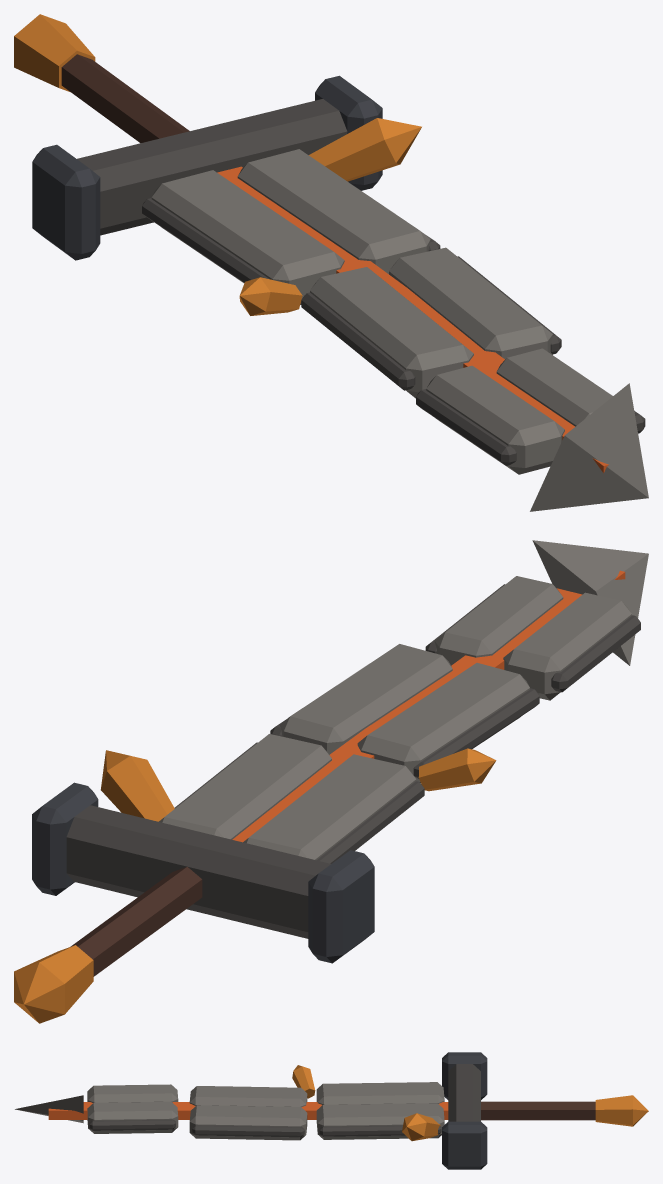
Rendered from boss_weapon.fbx.
3 renders of one model, top to bottom at view 1: azimuth 30°, elevation 25°; view 2: azimuth 150°, elevation 25°; view 3: azimuth 270°, elevation 25°, orthographic. The views are drawn at different scales.
Visible parts, largest first — view 1: boss_weapon; view 2: boss_weapon; view 3: boss_weapon.
Boxes of the visible parts, x1=… form: boss_weapon: x1=14, y1=14, x2=648, y2=511; boss_weapon: x1=14, y1=540, x2=648, y2=1023; boss_weapon: x1=15, y1=1052, x2=648, y2=1169.
Size of the model in its own units: 0.9 by 0.2911 by 3.1.
